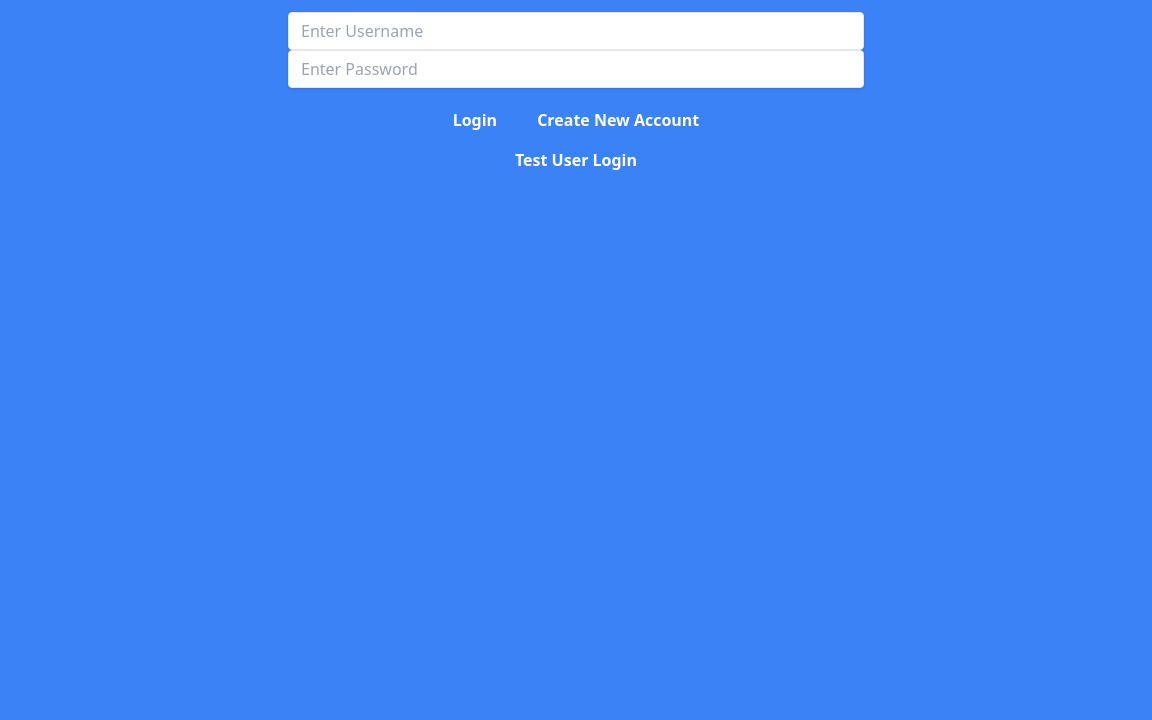
Login Component › renders signup on create account button click
Expected: the heading "Signup" is not shown
Click the button "Create New Account". click: (618, 120)
box: [521, 100, 715, 140]
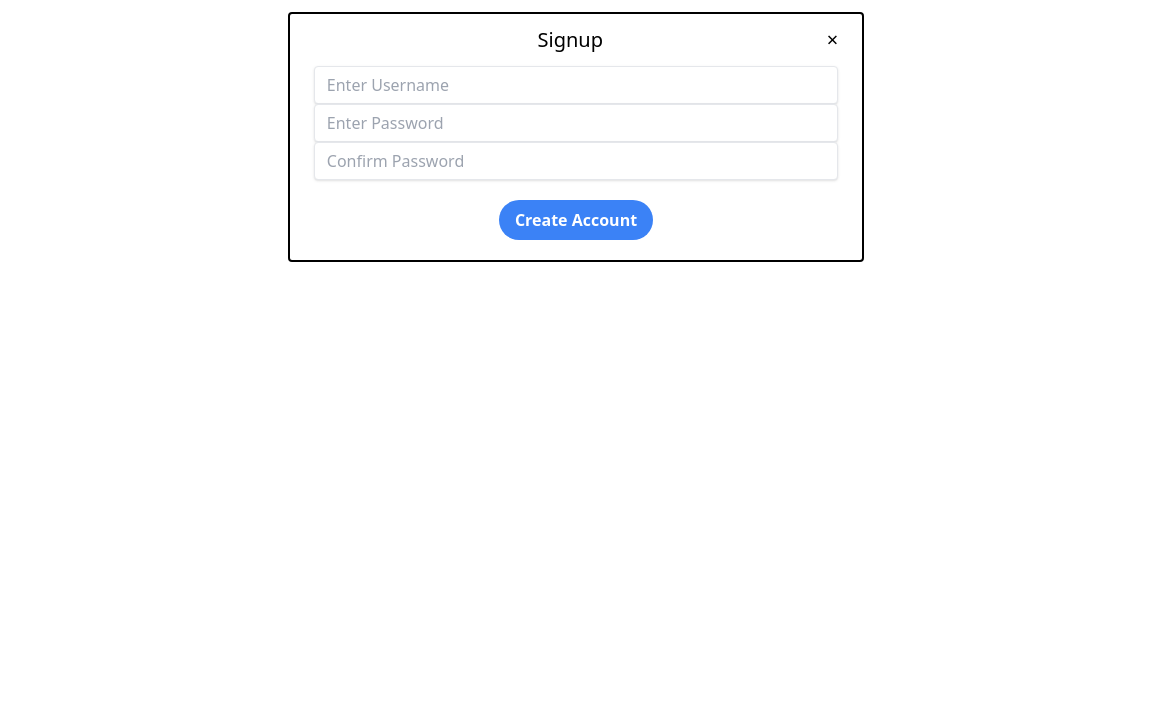
Expected: the heading "Signup" is shown, [538, 26, 603, 54]
